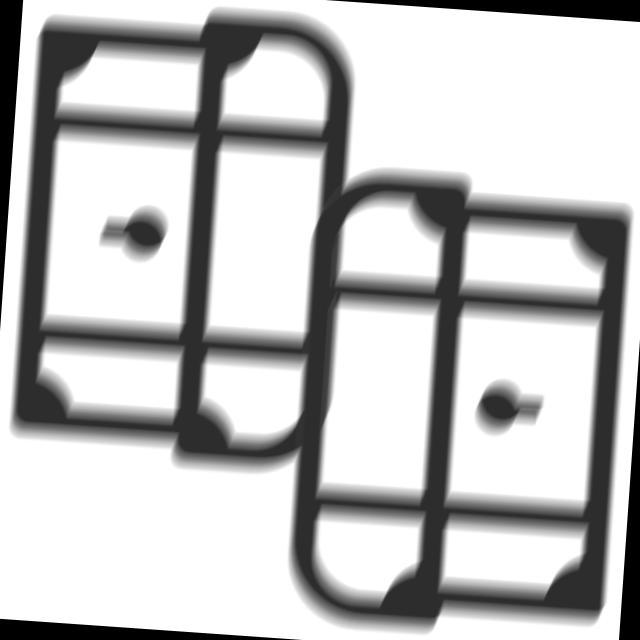treasure_box: (1, 1, 377, 498), (266, 143, 640, 640)
